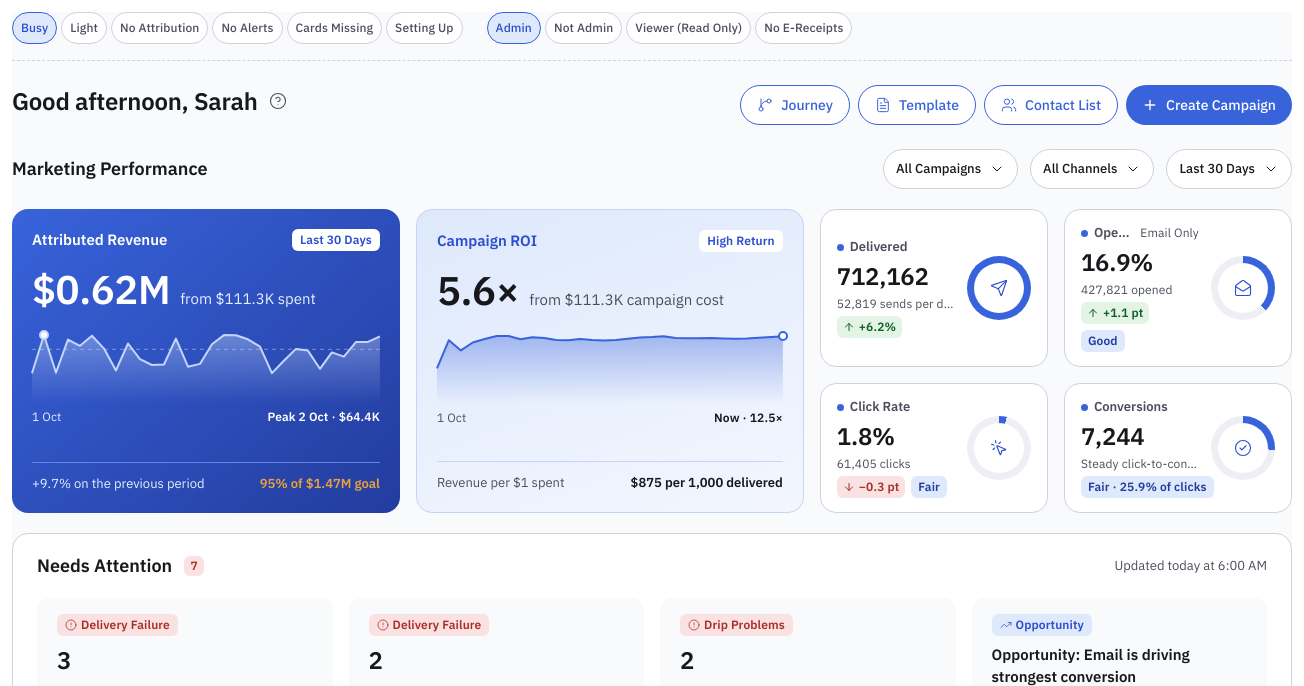
Test: the read-only viewer: no Create New, and the KPI access line instead of the strip
Click the radio button labelled "Viewer (Read Only)": (689, 28) [626,12,751,44]
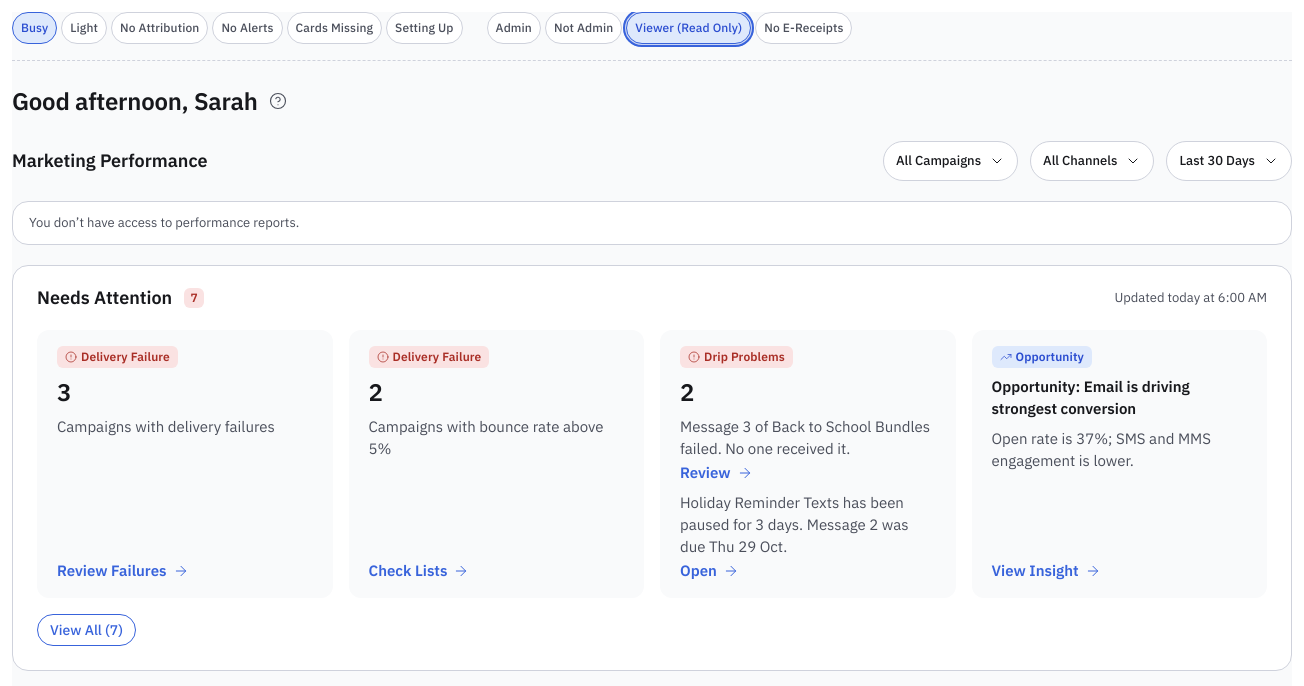
Expected: the element "Create New" is not shown
Now the text "You don’t have access to performance reports." is shown, box [12,201,1292,245]
